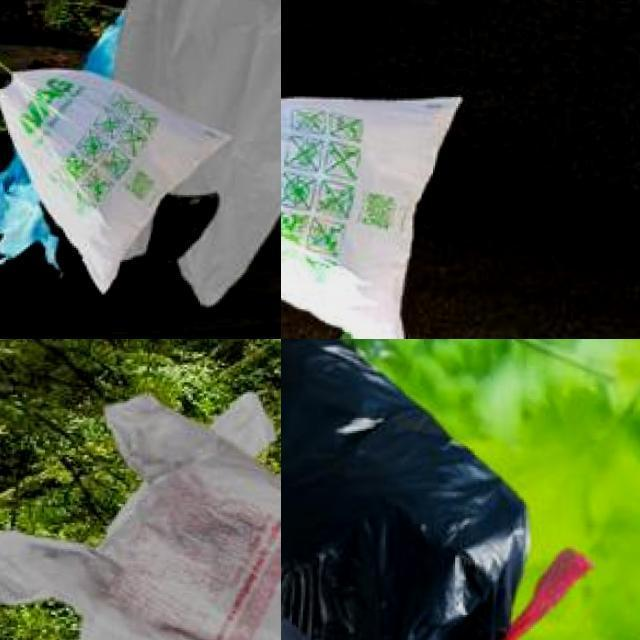waste: (281, 339, 529, 640), (0, 390, 281, 640), (29, 401, 281, 640), (123, 0, 281, 309), (281, 78, 457, 339), (0, 65, 223, 270)
